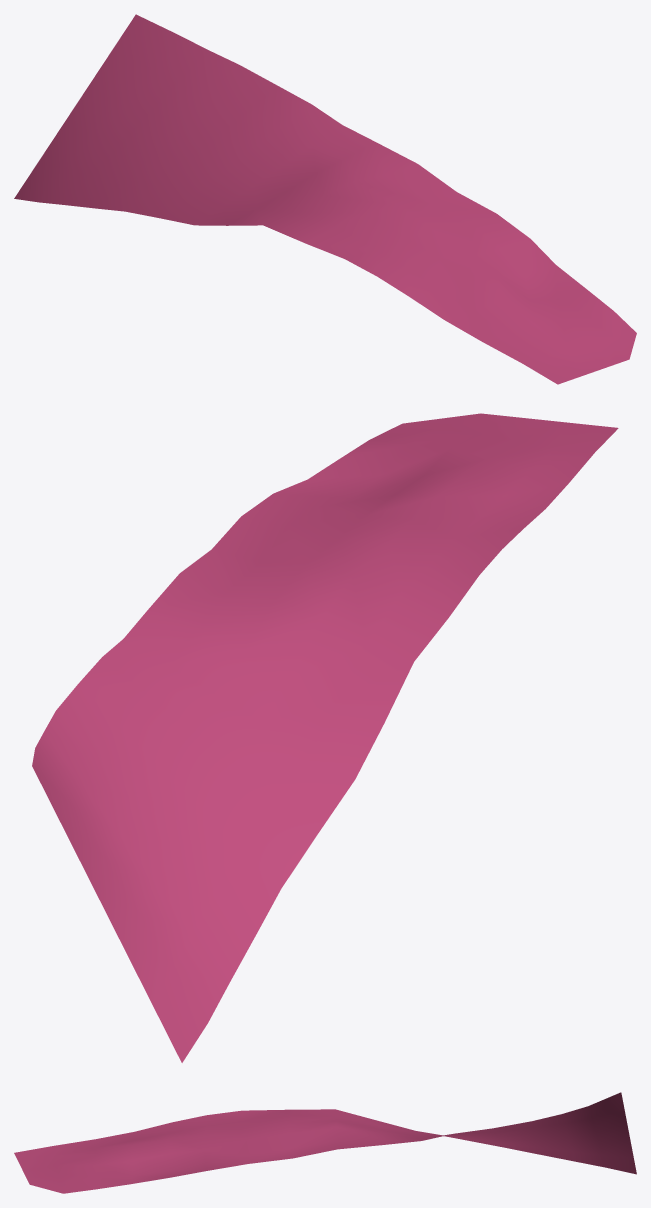
The picture shows the model from 3 angles, top to bottom: view 1: azimuth 30°, elevation 25°; view 2: azimuth 150°, elevation 25°; view 3: azimuth 270°, elevation 25°; orthographic projection. The views are drawn at different scales.
Visible parts, largest first — view 1: 右侧臂外侧肌间隔; view 2: 右侧臂外侧肌间隔; view 3: 右侧臂外侧肌间隔.
Part boxes in pixels (left/top/right/bottom): 右侧臂外侧肌间隔: left=14, top=14, right=636, bottom=384; 右侧臂外侧肌间隔: left=32, top=413, right=618, bottom=1062; 右侧臂外侧肌间隔: left=14, top=1092, right=636, bottom=1193.
Bounding box in the file's own units: 0.0478 × 0.0318 × 0.1461.
